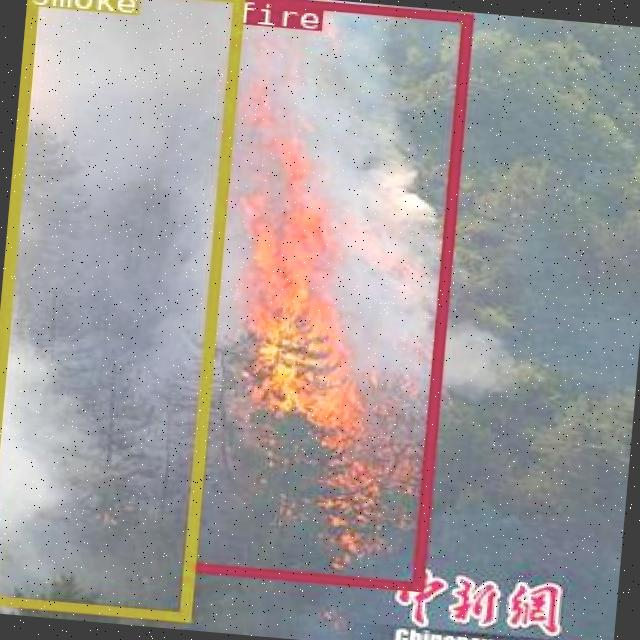fire: (182, 0, 470, 590)
smoke: (0, 0, 243, 619)
